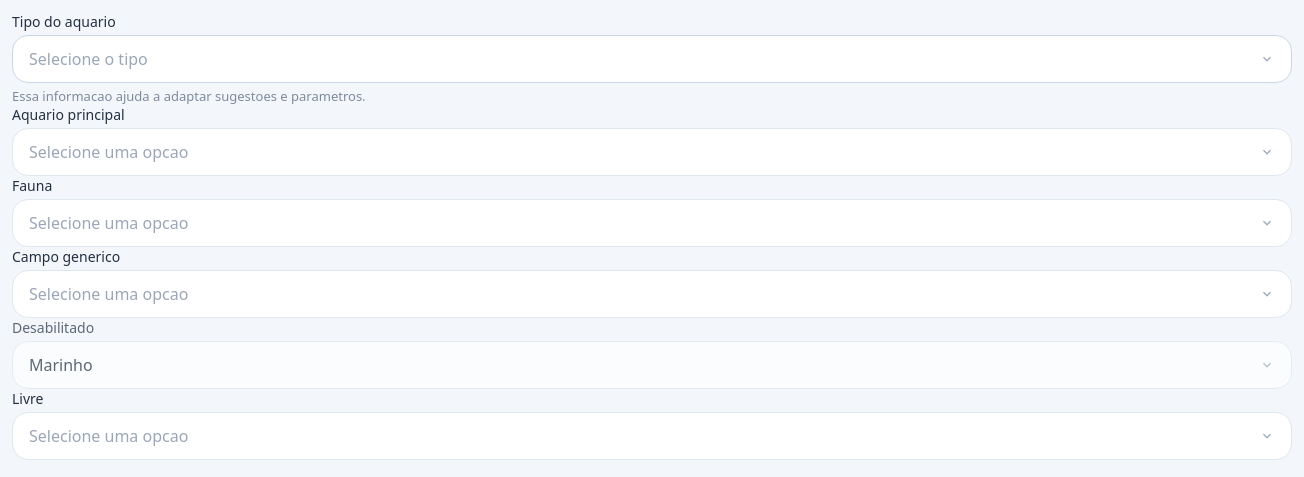
Test: SelectFormfieldComponent › should close the dropdown with Escape
This screenshot has width=1304, height=477.
Click the dropdown with class "select-formfield__trigger" showing "Selecione o tipo" at [88, 59], box [12,35,1292,83]
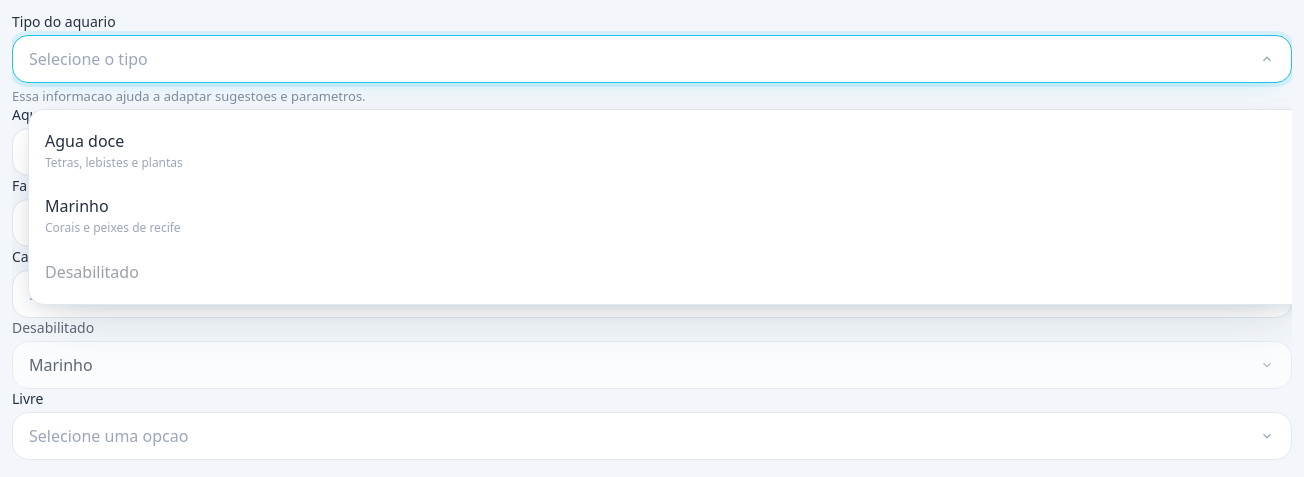
Press Escape in the element that starts with "Tipo do aquario", box [12,12,1292,105]
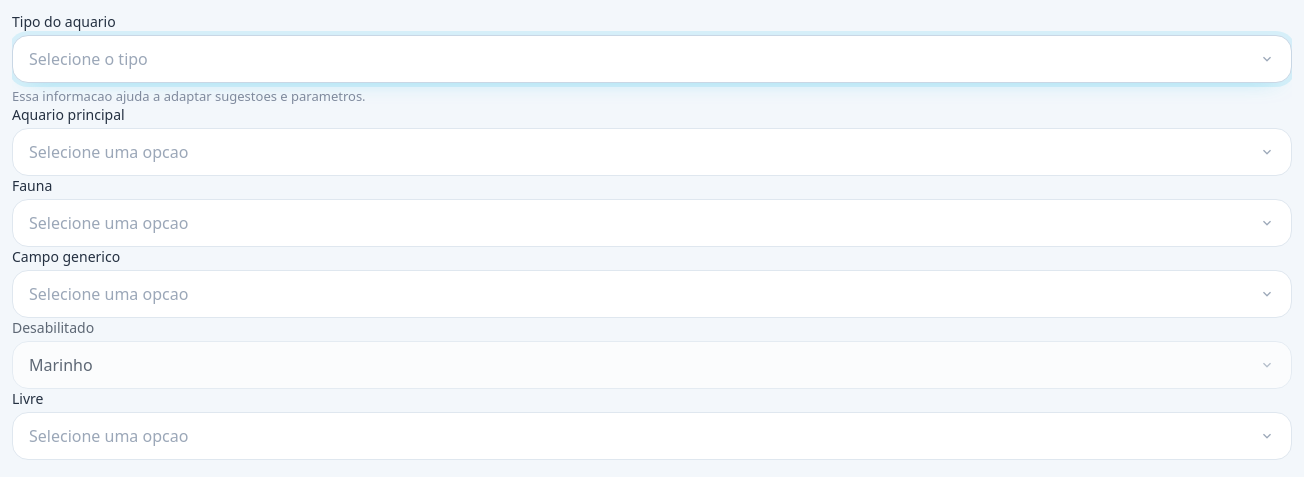
Expected: the list with class "select-formfield__dropdown" is gone
